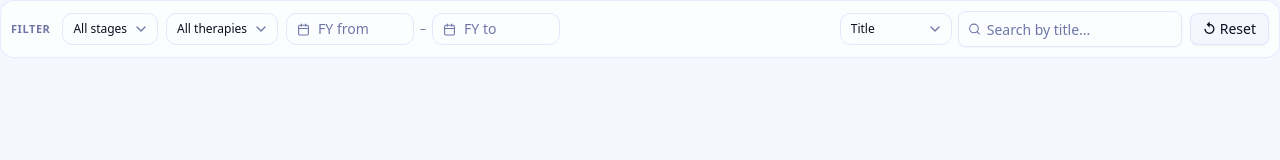
Test: CrmFilterBar — combined search field picker › shows the human-readable "Code" label after switching, not the raw filter key
Step 1. Click the dropdown named "search by field" → (896, 29), box top-left (840, 13), bottom-right (952, 45)
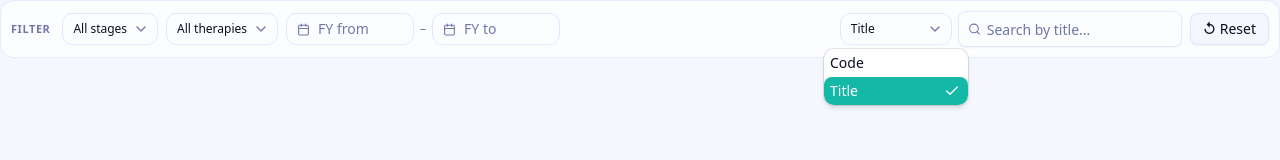
Step 2. Click the option "Code" → (847, 62), box top-left (830, 53), bottom-right (864, 72)
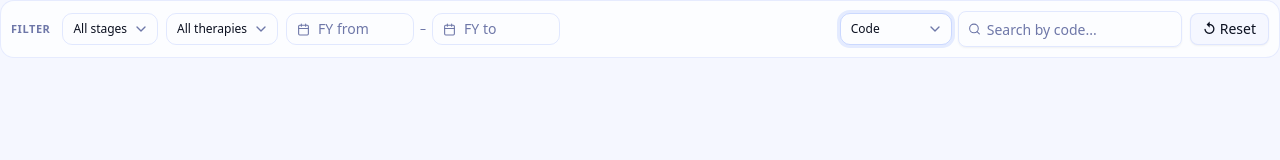
Expected: the dropdown named "search by field" does not show "code", top-left (840, 13), bottom-right (952, 45)
Expected: the dropdown named "search by field" shows "Code", top-left (840, 13), bottom-right (952, 45)
